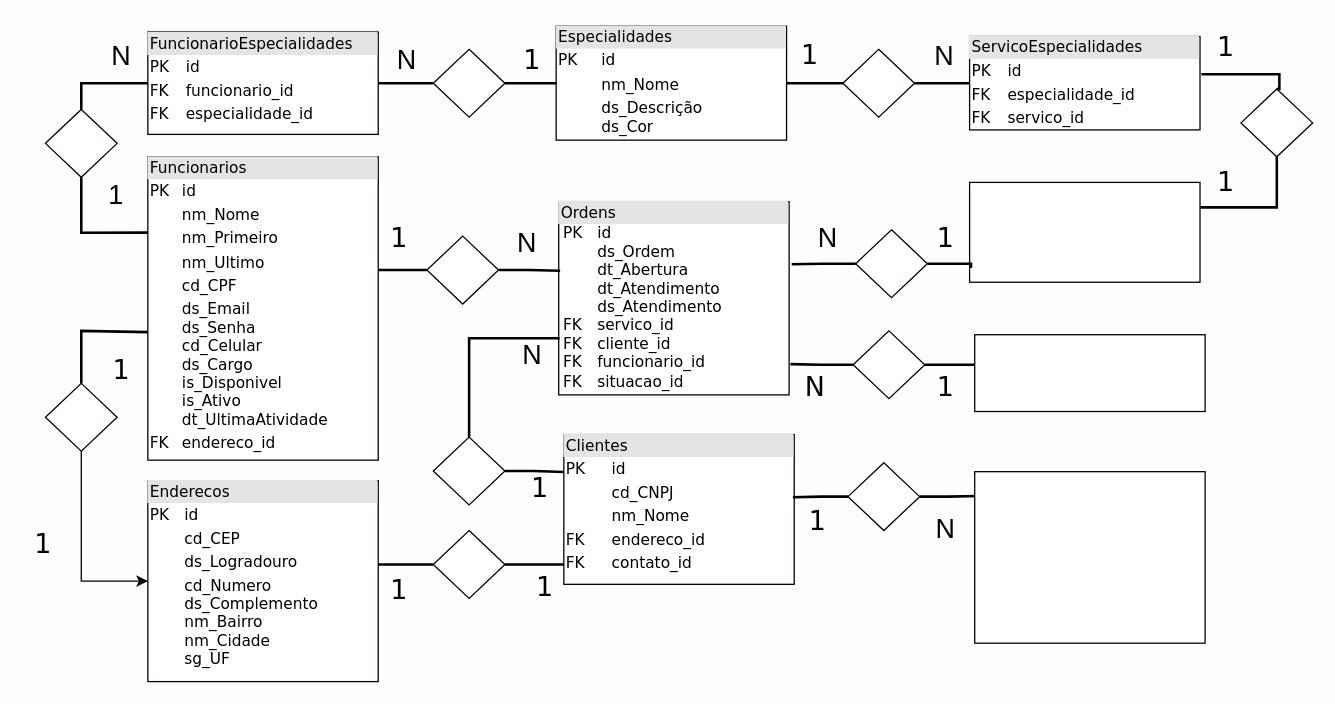
Image size: 1335x704. Some labels were removed from this diagram. The shapes that lost their labels are listed below. From the top down, each one's box as (x1, y1, x2, y2) in pixels, then its label:
(968, 181, 1200, 282): Servicos PK id ds_Descricao nm_Nome
(973, 333, 1205, 412): Situação PK id ds_Descricao
(973, 470, 1205, 643): Contatos PK id ds_Descricao nm_Nome cd_Telefone ds_Email FK cliente_id
